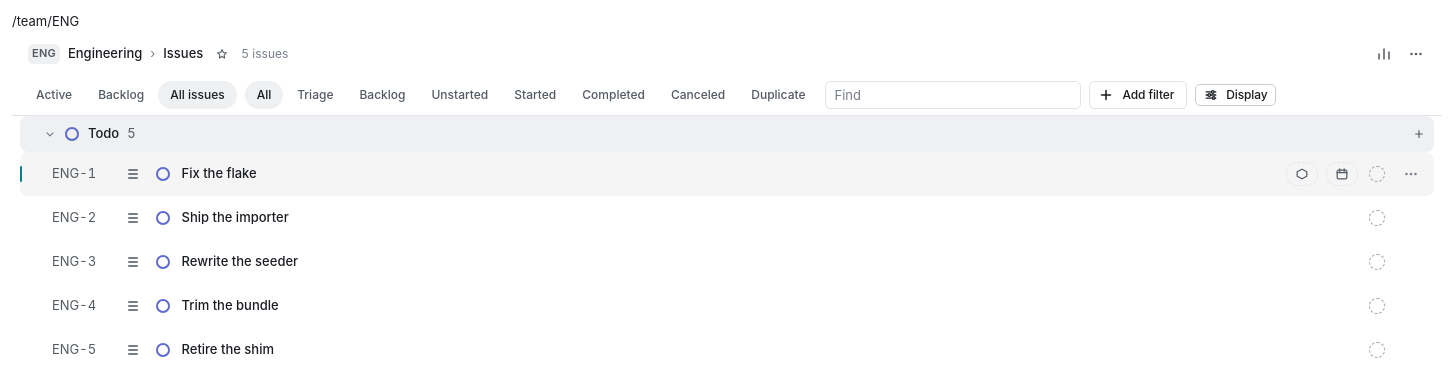
a property glyph in a row › names the assignee slot even where there is nobody in it
Click the button named "Unassigned" in the row of "Fix the flake" at (1377, 174), box [1366,162,1388,184]
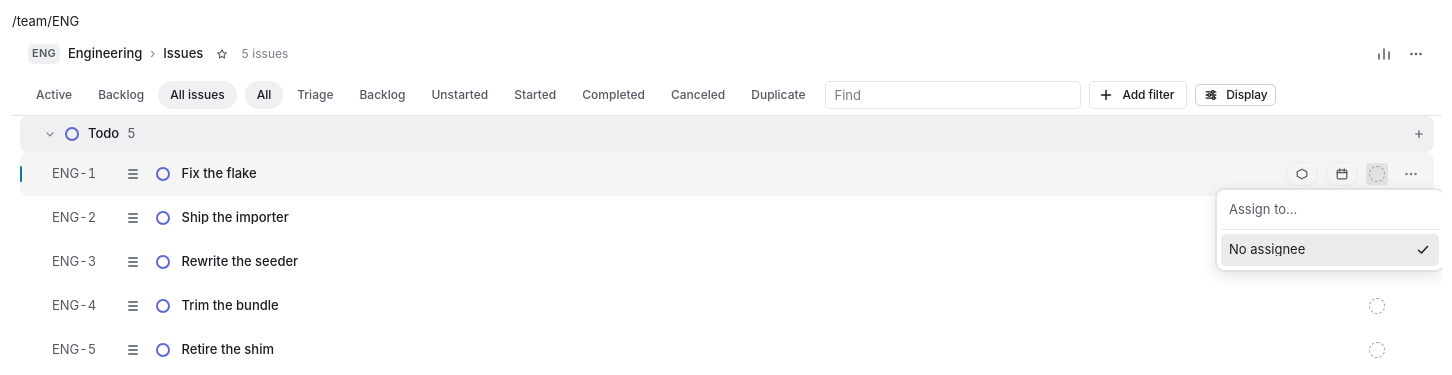
Expected: the menu "assignee" is shown, [1221,234,1439,266]
